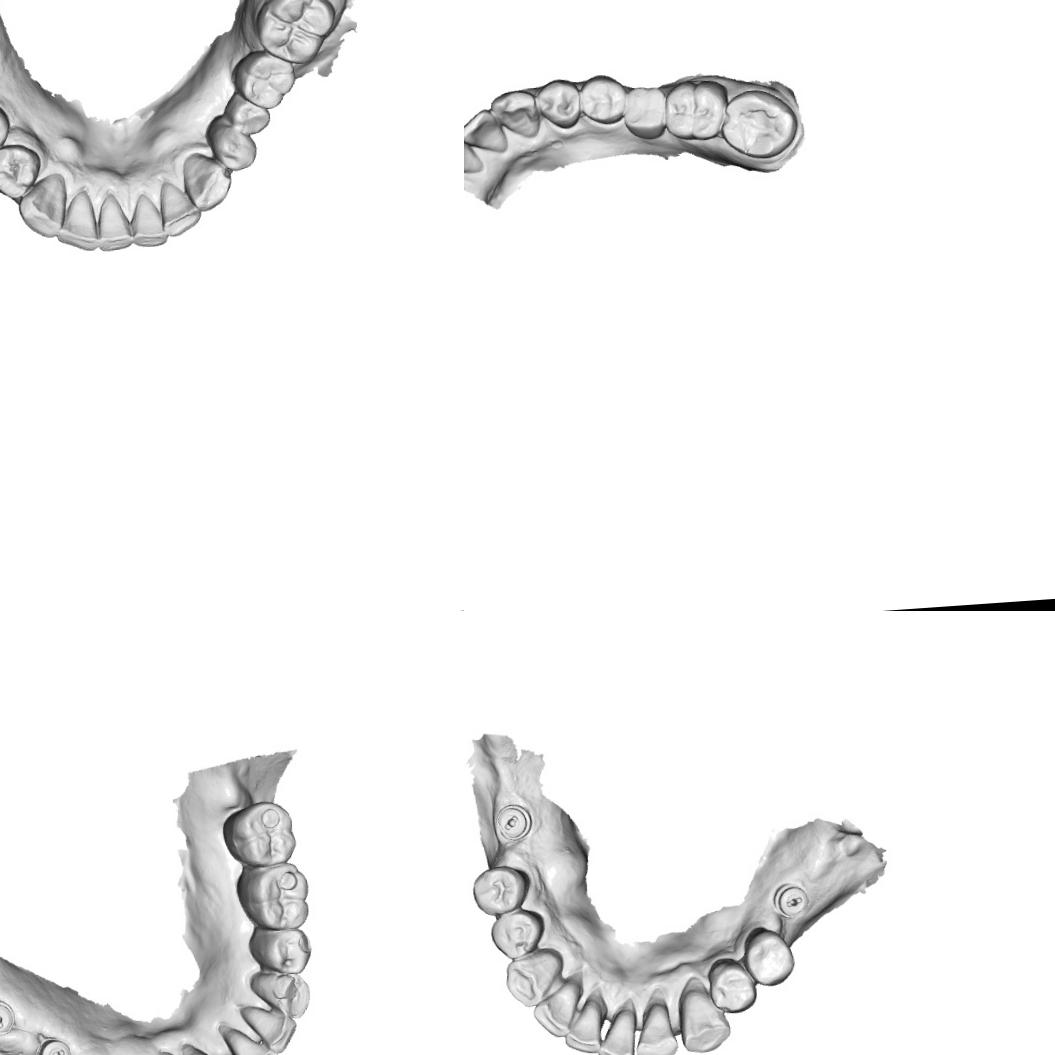canine: (672, 983, 734, 1055), (500, 945, 567, 1010), (13, 174, 68, 242), (182, 149, 235, 213), (486, 81, 540, 142), (251, 966, 313, 1019)
implant_minus: (492, 798, 535, 844), (772, 878, 812, 920), (0, 995, 22, 1044), (30, 1030, 72, 1055)
incisor: (528, 978, 588, 1041), (50, 186, 105, 253), (237, 1001, 298, 1055), (558, 994, 606, 1055), (629, 999, 681, 1055), (156, 177, 202, 240), (92, 188, 135, 253), (591, 1004, 642, 1055), (125, 192, 169, 250), (464, 105, 509, 158), (222, 1023, 281, 1055), (464, 127, 484, 179)
molar: (718, 85, 798, 159), (252, 0, 337, 68), (236, 861, 315, 934), (662, 75, 734, 151), (218, 799, 296, 868), (229, 43, 300, 113), (617, 77, 676, 149)
premolar: (244, 921, 314, 978), (739, 924, 796, 991), (468, 862, 532, 919), (532, 68, 587, 134), (487, 904, 549, 962), (575, 65, 628, 130), (704, 954, 759, 1016), (205, 113, 261, 172), (0, 137, 47, 204), (218, 90, 276, 138), (0, 98, 12, 160)
